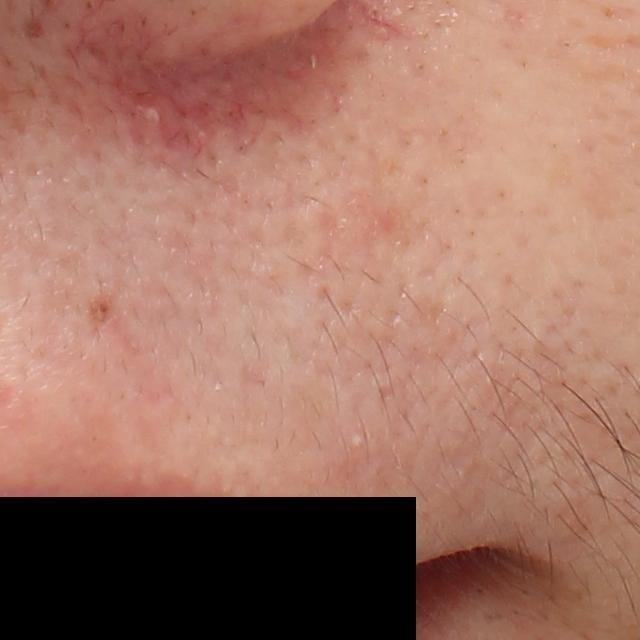comedo: (351, 435, 366, 452)
nevus: (89, 294, 116, 334)
